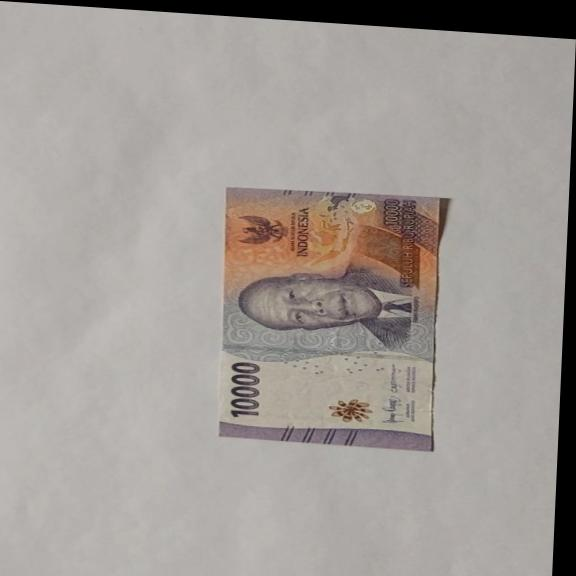Kertas: (213, 182, 447, 451), (226, 359, 263, 420)
